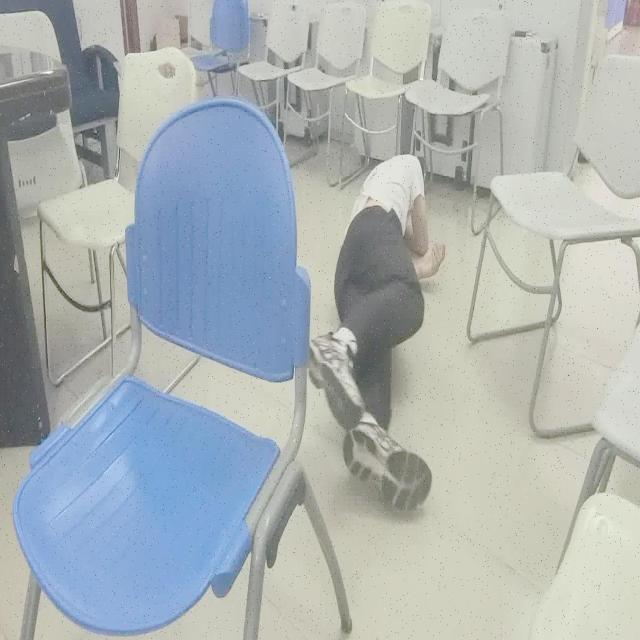fall: (303, 149, 447, 520)
